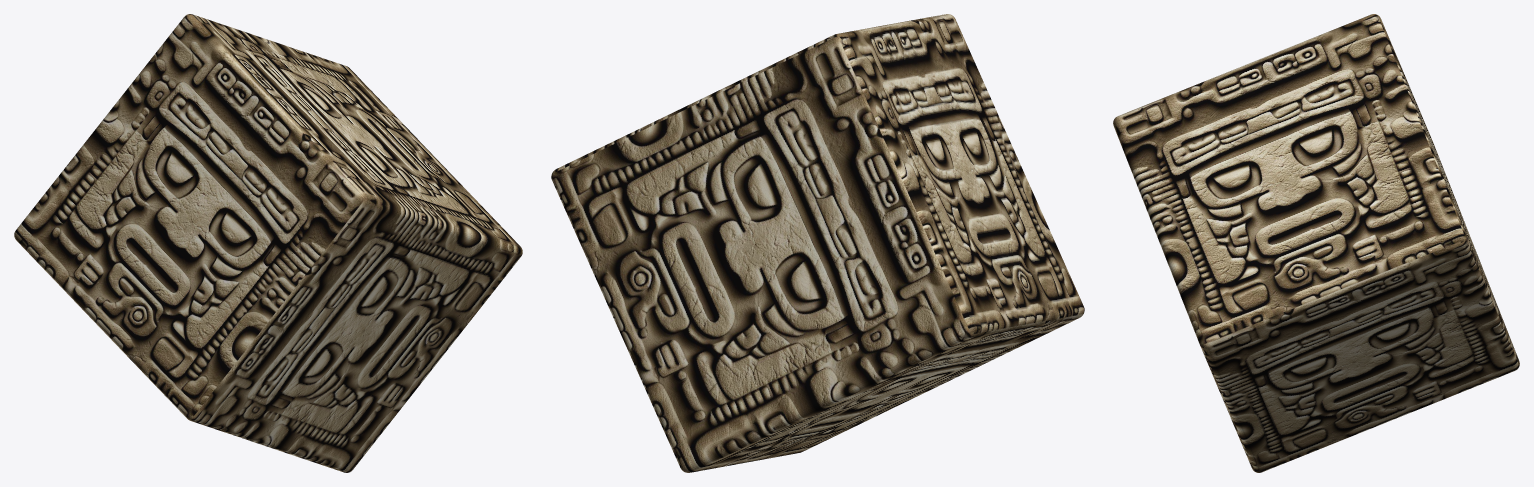
Rendered from aztec block a.fbx.
3 renders of one model, left to right at view 1: azimuth 30°, elevation 25°; view 2: azimuth 150°, elevation 25°; view 3: azimuth 270°, elevation 25°, orthographic. The views are drawn at different scales.
Visible parts, largest first — view 1: Cube.002; view 2: Cube.002; view 3: Cube.002.
Part boxes in pixels (<box>): Cube.002: <box>14,14,522,472</box>; Cube.002: <box>551,14,1084,472</box>; Cube.002: <box>1113,14,1519,472</box>.
Size of the model in its own units: 297 by 317 by 282.
Materials: 1 (1 with a texture image).
